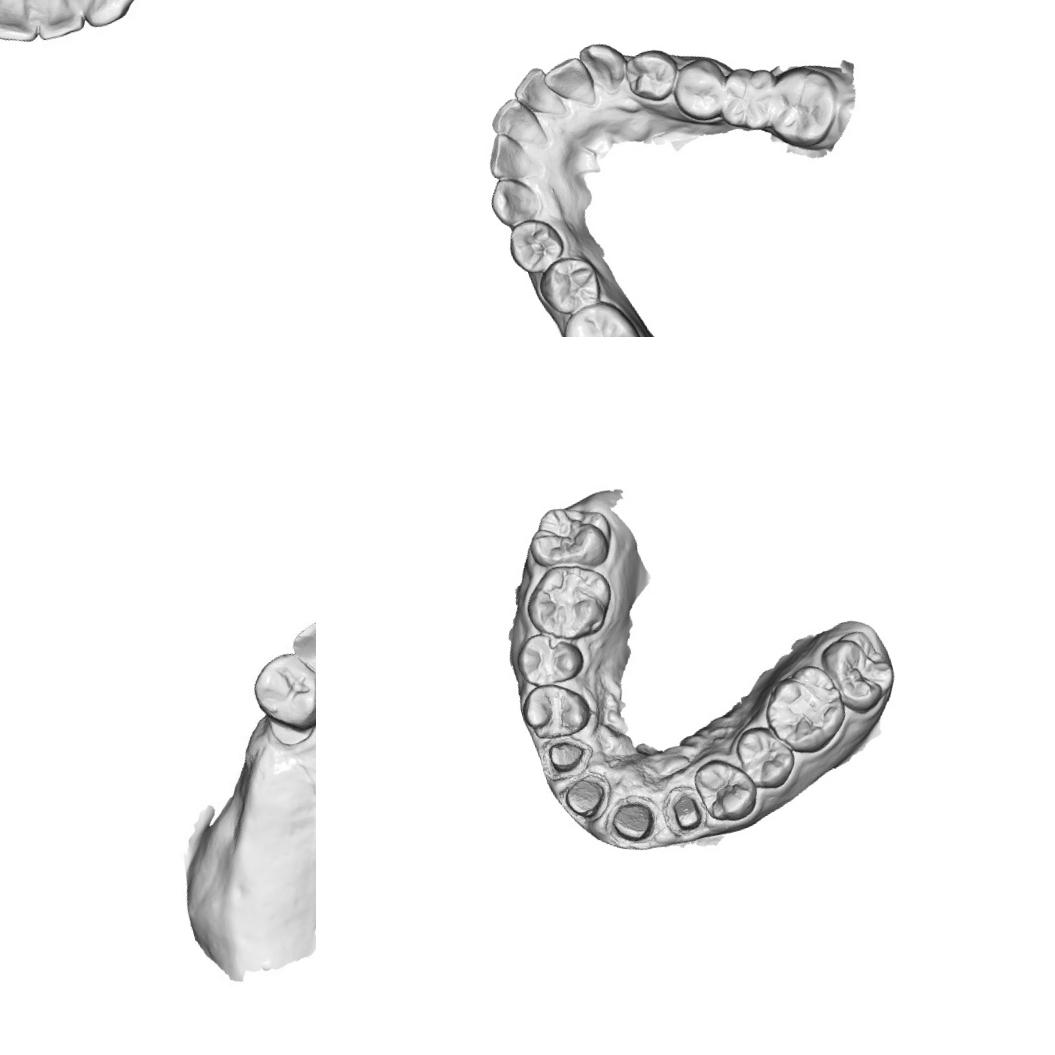canine: (576, 33, 633, 101), (484, 171, 544, 232), (70, 0, 148, 32)
crown: (595, 786, 667, 855), (550, 762, 619, 829), (654, 779, 714, 844), (534, 728, 598, 784)
incisor: (538, 52, 600, 116), (507, 60, 567, 125), (484, 92, 544, 154), (481, 126, 535, 184), (25, 0, 88, 47), (284, 609, 316, 693), (0, 0, 43, 58)
molar: (754, 656, 854, 762), (516, 554, 622, 650), (754, 57, 849, 157), (518, 494, 620, 581), (815, 622, 903, 722), (712, 58, 786, 138), (552, 292, 650, 337)
premolar: (245, 645, 316, 736), (688, 748, 764, 829), (514, 673, 596, 744), (729, 718, 801, 796), (532, 248, 606, 323), (664, 51, 736, 128), (509, 622, 588, 691), (503, 210, 570, 280), (620, 42, 685, 107)
